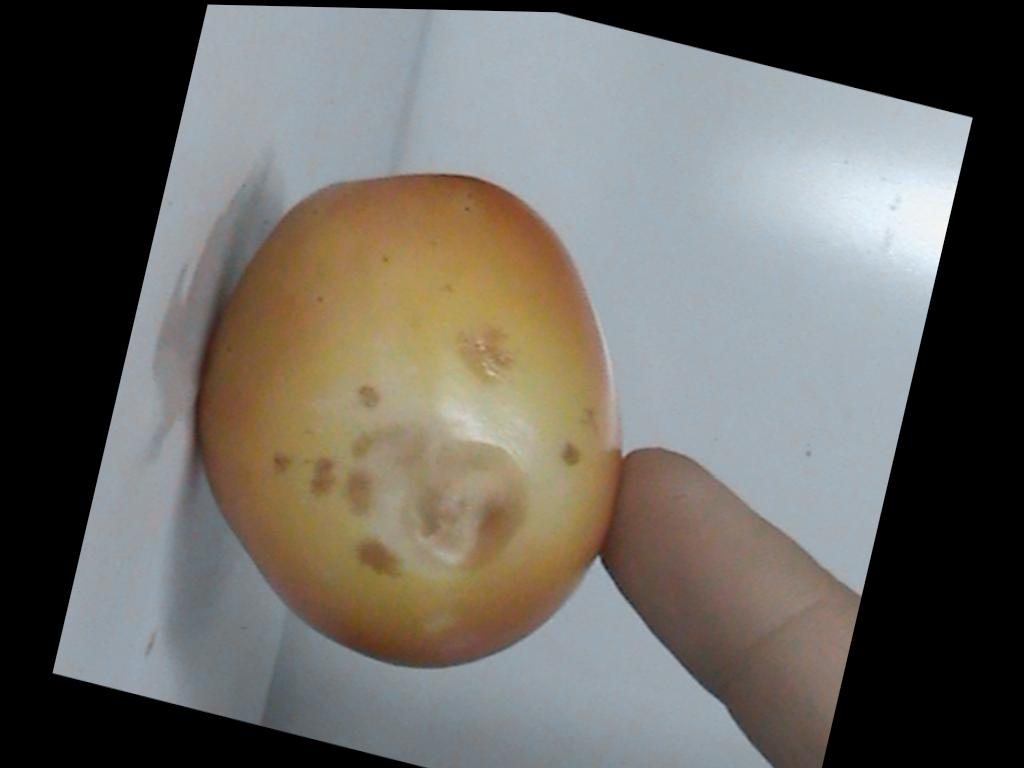bruise_discoloration: (243, 190, 618, 634)
rot_mold_decay: (402, 444, 525, 569), (357, 539, 401, 578), (345, 470, 372, 517), (309, 458, 337, 498), (357, 385, 381, 411), (562, 444, 580, 468), (272, 454, 292, 475)
tomato: (199, 175, 618, 668)
